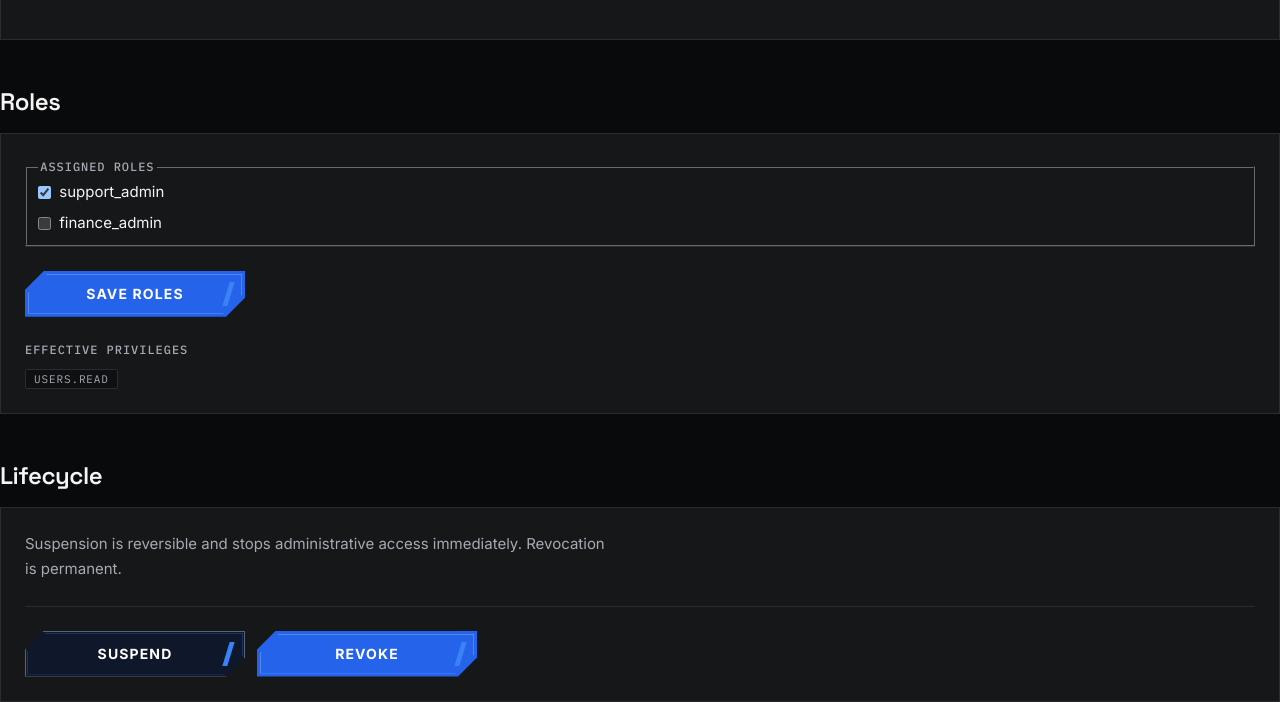
Test: administrator detail › requires confirmation before revoking
(page scrolled)
Click the button "Revoke" at (367, 654), box [257,630,477,676]
(page scrolled)
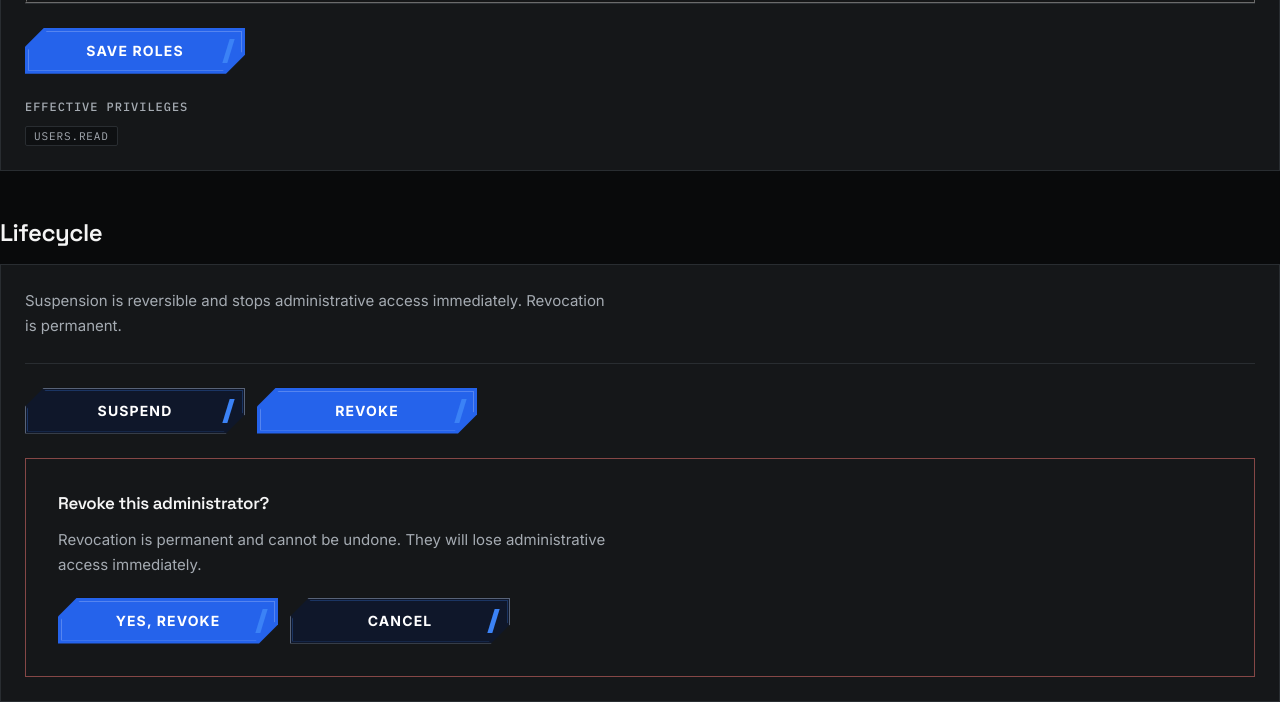
Check: the text "permanent" is shown, box [58,530,605,574]
Check: the button "Yes, revoke" is shown, box [58,598,278,644]
